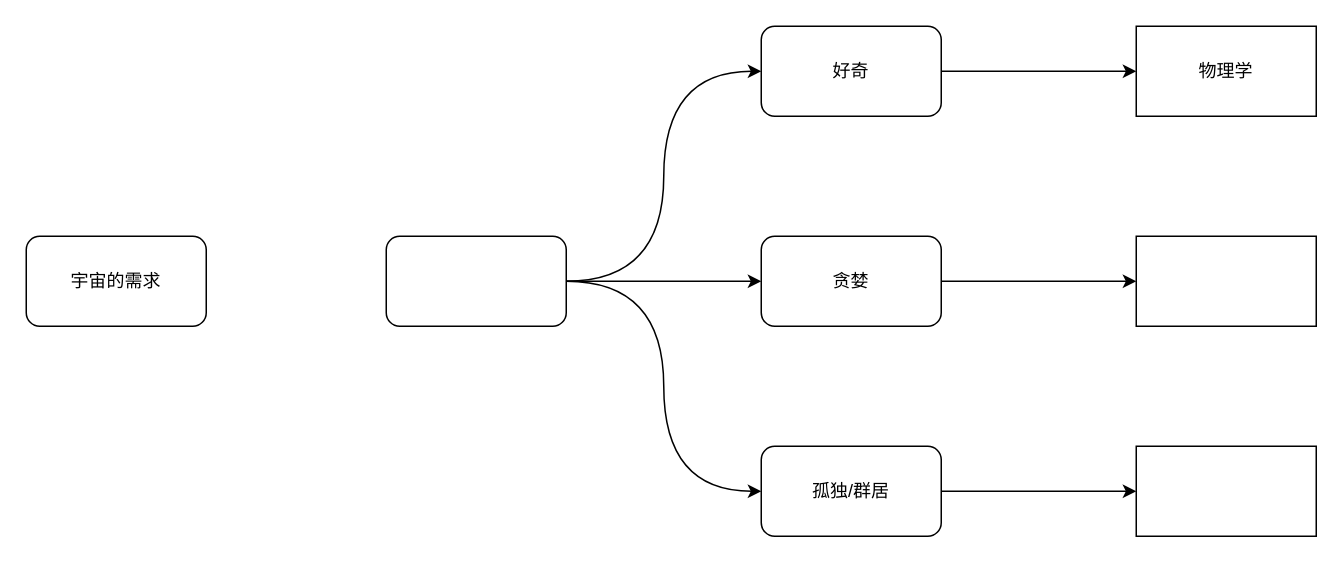
Some shapes in this 1343 by 563 pixel diagram are drawn without their labels. The shapes that lost their labels are listed below. From the top down, each one's centre as x and y in pixels, then its label:
(x=475, y=280): 人的需求（人性）
(x=1225, y=280): 经济学
(x=1225, y=490): 心理学
